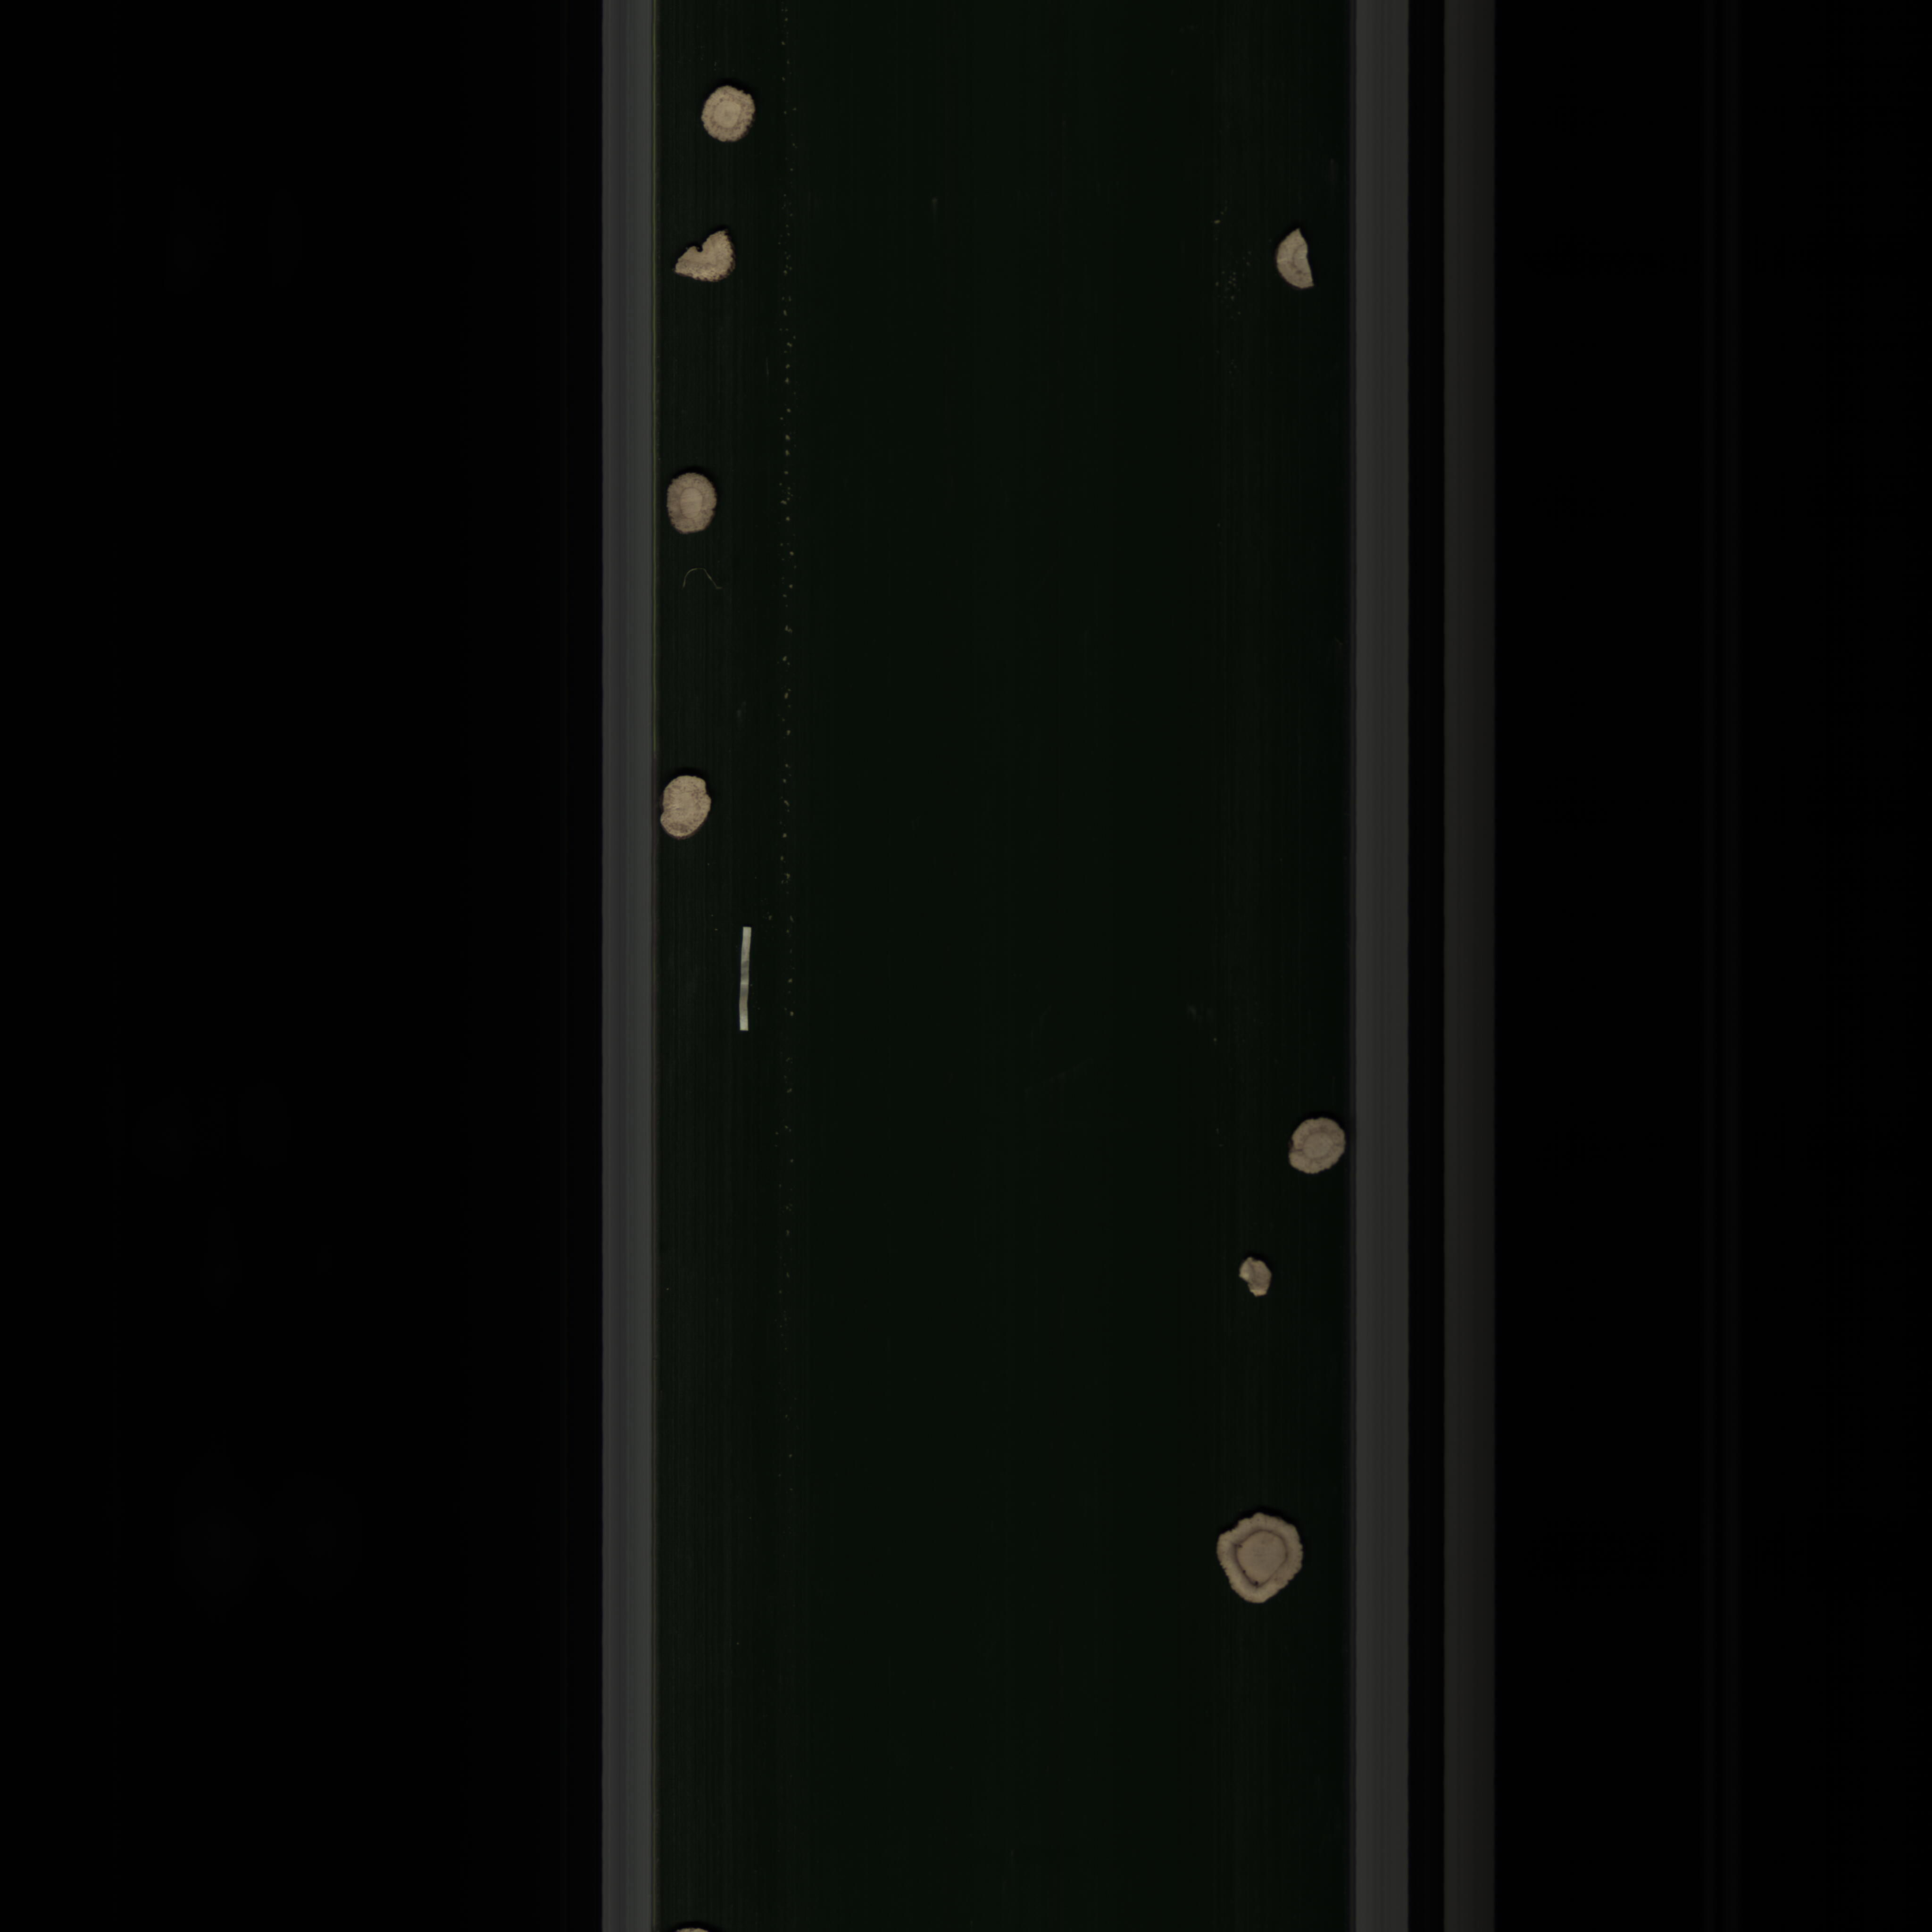bark: (736, 920, 759, 1039)
debris: (669, 225, 743, 288), (1272, 225, 1322, 303), (1228, 1246, 1277, 1302)
moldy: (1207, 1497, 1311, 1626)
